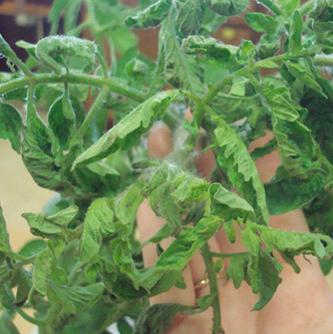Tomato leaf mosaic virus: (75, 84, 186, 168), (200, 103, 267, 223), (148, 216, 223, 274), (271, 94, 317, 181), (123, 0, 176, 32), (0, 101, 27, 154)
